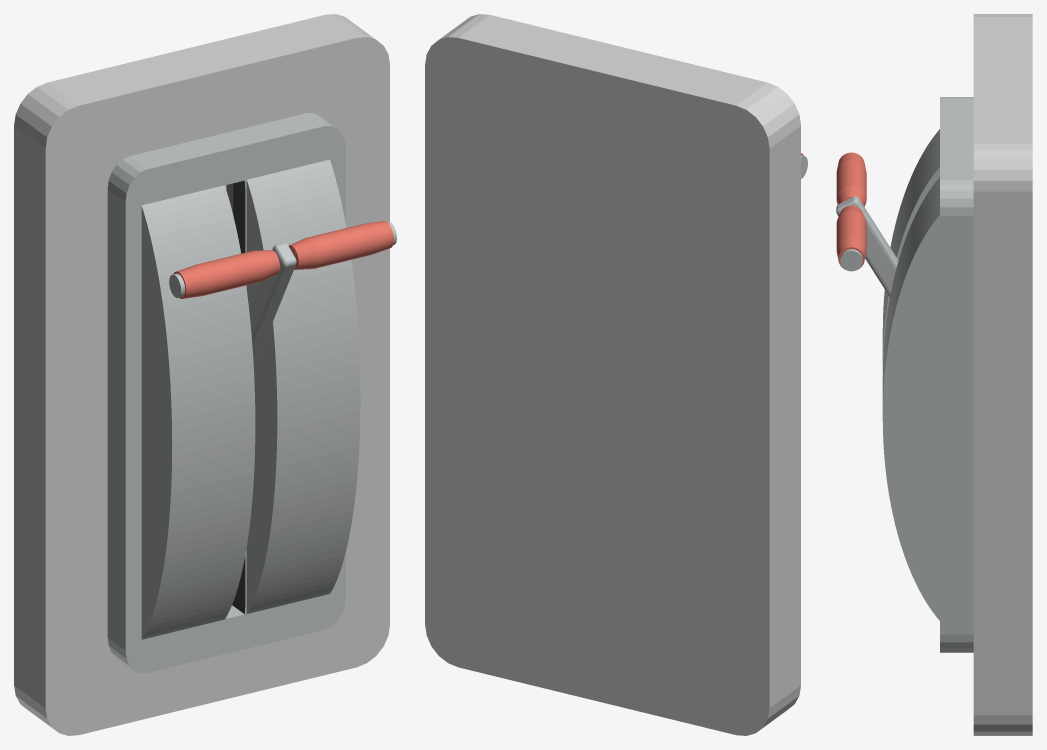
File: Lever2.fbx
3 renders of one model, left to right at view 1: azimuth 30°, elevation 25°; view 2: azimuth 150°, elevation 25°; view 3: azimuth 270°, elevation 25°, orthographic. The views are drawn at different scales.
Visible parts, largest first — view 1: Lever_Base2, Lever2; view 2: Lever_Base2; view 3: Lever_Base2, Lever2.
Boxes of the visible parts, <box> form: Lever_Base2: <box>14,14,389,735</box>; Lever2: <box>169,221,396,367</box>; Lever_Base2: <box>425,14,800,735</box>; Lever_Base2: <box>882,14,1032,735</box>; Lever2: <box>836,152,898,296</box>.
Bounding box in the file's own units: 126 × 220 × 66.42.
